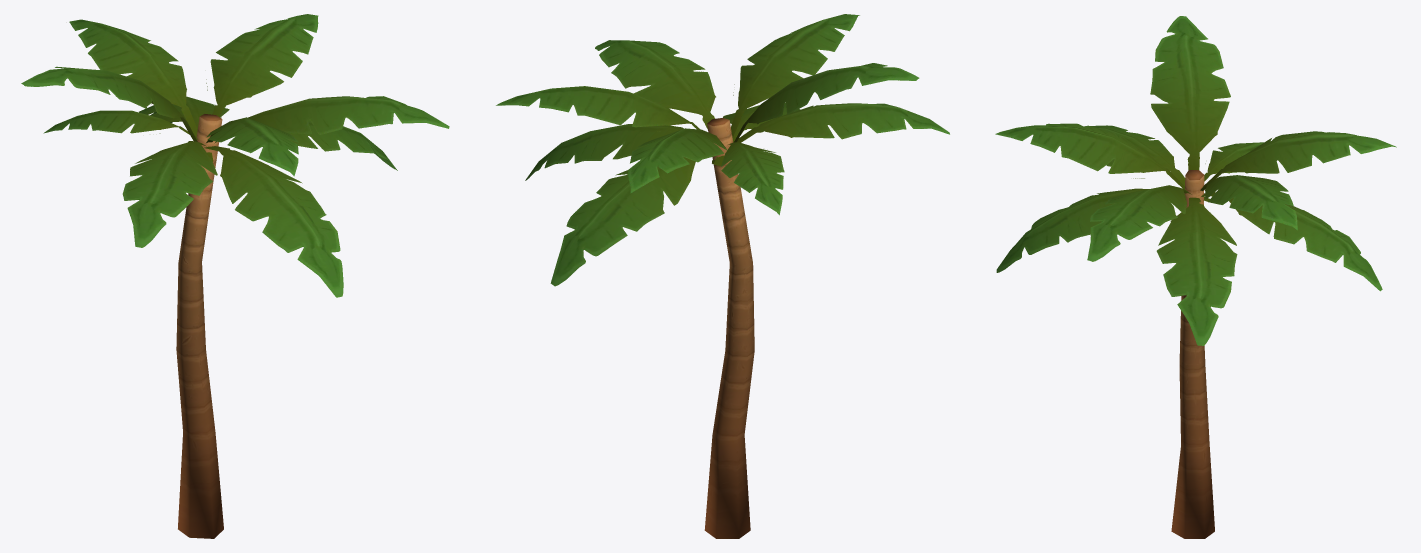
Rendered from palm.glb.
3 views of the same model, side by side, from view 1: azimuth 30°, elevation 25°; view 2: azimuth 150°, elevation 25°; view 3: azimuth 270°, elevation 25° (orthographic). The views are drawn at different scales.
Visible parts, largest first — view 1: Palm Tree 1_Plam Tree_0; view 2: Palm Tree 1_Plam Tree_0; view 3: Palm Tree 1_Plam Tree_0.
Boxes of the visible parts, left/top/right/bottom form: Palm Tree 1_Plam Tree_0: left=21, top=14, right=449, bottom=538; Palm Tree 1_Plam Tree_0: left=496, top=14, right=949, bottom=538; Palm Tree 1_Plam Tree_0: left=995, top=16, right=1396, bottom=538.
Size of the model in its own units: 2.66 by 3.22 by 2.8.
Materials: 1 (1 with a texture image).
